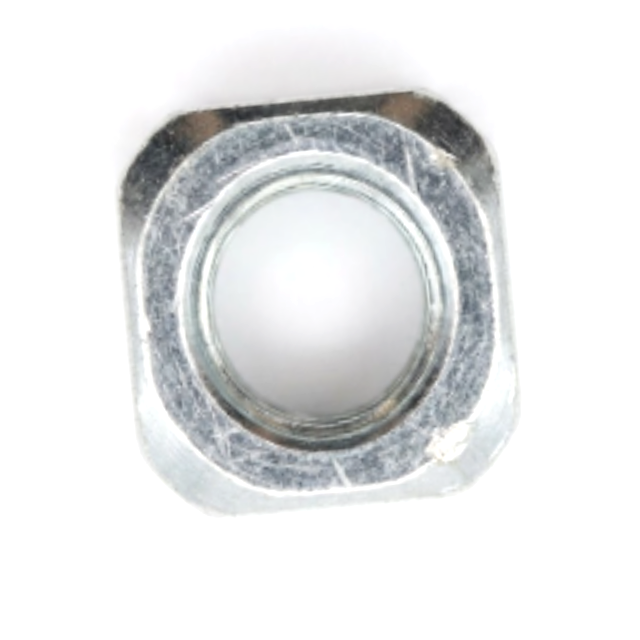defect: (183, 158, 249, 219), (413, 411, 484, 466), (415, 128, 475, 192), (314, 442, 357, 492)
